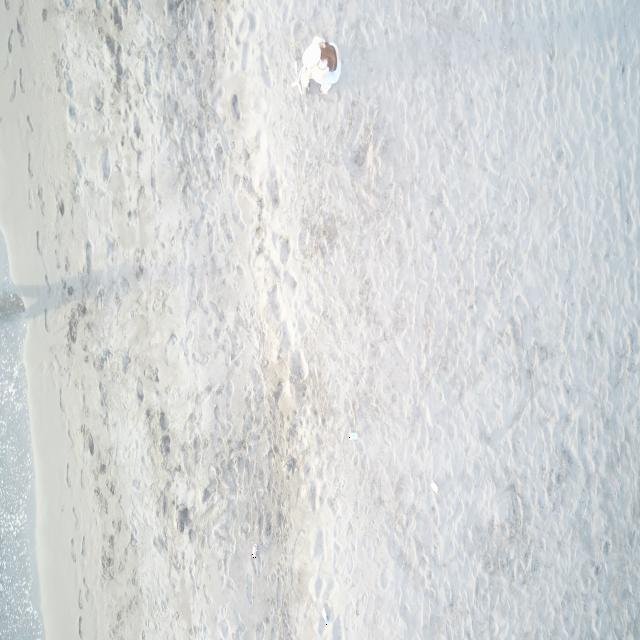tin-and-aluminum-cans: (322, 607, 329, 625), (430, 479, 438, 494), (349, 428, 358, 441), (252, 542, 258, 559)
